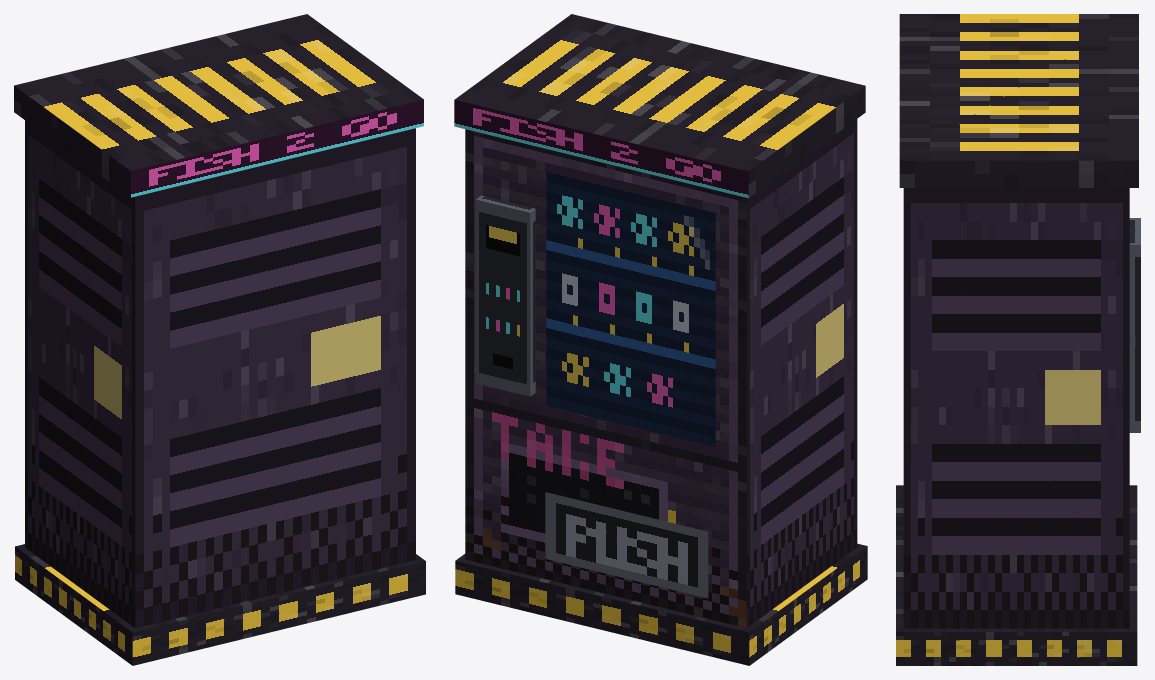
File: vending_machine.glb
3 renders of one model, left to right at view 1: azimuth 30°, elevation 25°; view 2: azimuth 150°, elevation 25°; view 3: azimuth 270°, elevation 25°, orthographic. The views are drawn at different scales.
Parts seen in each view (by area): view 1: Body, Screen; view 2: Body, Screen, Flap; view 3: Body, Screen.
Part boxes in pixels (x1=…): Body: x1=15, y1=120, x2=425, y2=665; Screen: x1=14, y1=14, x2=423, y2=197; Body: x1=455, y1=119, x2=867, y2=665; Screen: x1=454, y1=14, x2=865, y2=447; Flap: x1=545, y1=492, x2=708, y2=598; Body: x1=896, y1=188, x2=1140, y2=665; Screen: x1=899, y1=14, x2=1138, y2=187.
Size of the model in its own units: 1.15 by 1.85 by 0.8125.
1 material, 1 textured.
